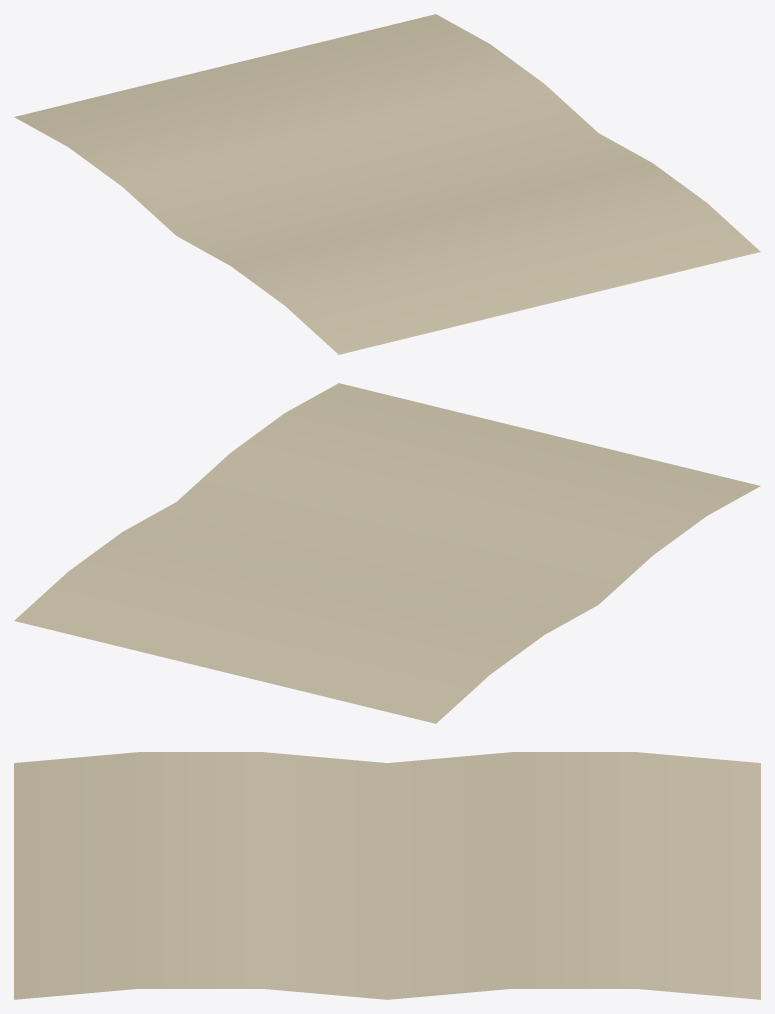
The model's file is open-letter.glb.
The picture shows the model from 3 angles, top to bottom: view 1: azimuth 30°, elevation 25°; view 2: azimuth 150°, elevation 25°; view 3: azimuth 270°, elevation 25°; orthographic projection. The views are drawn at different scales.
Visible parts, largest first — view 1: open-letter__Visual_matte; view 2: open-letter__Visual_matte; view 3: open-letter__Visual_matte.
Part boxes in pixels (box(x1,y1,x2,y2)): open-letter__Visual_matte: box(14, 14, 760, 354); open-letter__Visual_matte: box(14, 383, 760, 723); open-letter__Visual_matte: box(14, 752, 760, 999).
Size of the model in its own units: 0.36 by 0.00779 by 0.48.
